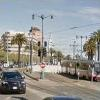Car: (0, 64, 30, 100)
